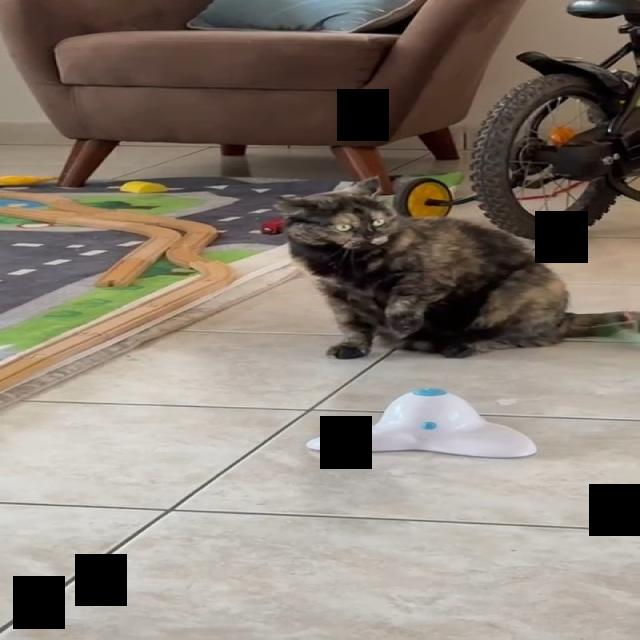authorized: (272, 176, 637, 359)
